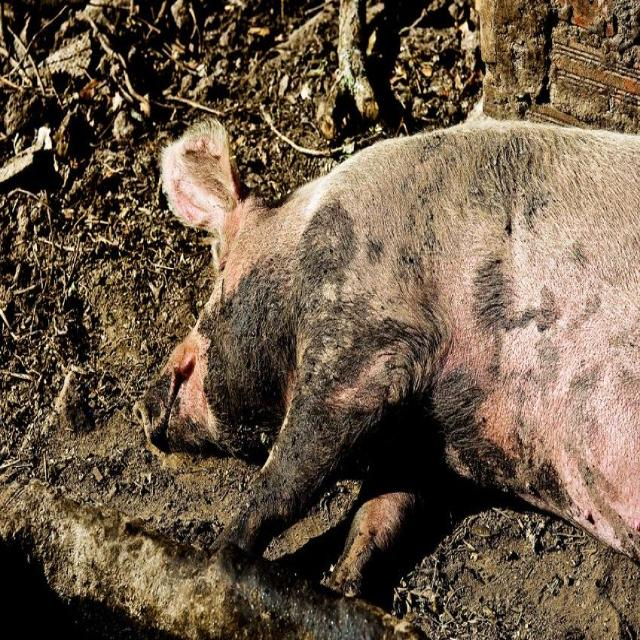pig: (138, 120, 640, 592)
